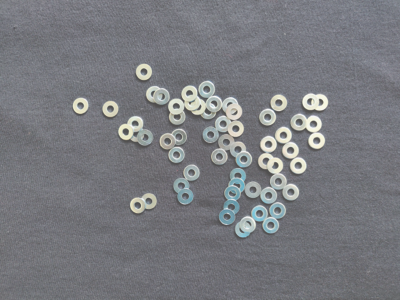circle: (135, 62, 153, 83), (127, 125, 146, 144), (271, 94, 290, 113), (258, 108, 278, 126), (177, 188, 195, 207), (172, 177, 191, 195), (145, 86, 163, 105), (301, 93, 319, 112), (290, 113, 308, 132), (304, 115, 323, 133), (307, 133, 326, 151), (141, 192, 158, 212), (183, 164, 201, 182), (127, 115, 145, 133), (198, 81, 216, 99), (235, 151, 253, 169), (289, 157, 307, 175), (269, 202, 287, 220), (137, 129, 154, 148), (154, 87, 171, 106), (211, 149, 230, 166), (311, 94, 328, 113), (275, 126, 294, 143), (269, 173, 288, 190), (130, 197, 147, 215), (222, 97, 239, 115), (218, 209, 236, 226), (283, 141, 300, 159), (257, 153, 275, 170), (267, 157, 284, 175), (282, 184, 300, 201), (261, 186, 278, 204), (245, 182, 263, 199), (222, 200, 241, 216), (235, 221, 251, 240), (169, 109, 186, 126), (184, 95, 201, 112), (203, 127, 220, 144), (230, 168, 247, 185), (260, 136, 277, 153), (72, 98, 90, 114), (103, 100, 119, 118), (160, 133, 176, 151), (181, 86, 199, 102), (190, 99, 206, 117), (200, 102, 216, 120), (216, 116, 232, 134), (230, 142, 248, 158), (225, 186, 243, 202), (167, 99, 186, 114), (118, 124, 134, 141), (172, 129, 188, 146), (169, 148, 185, 165), (206, 96, 223, 112), (229, 121, 245, 138), (218, 135, 235, 151), (228, 179, 245, 195), (252, 206, 269, 222), (240, 217, 256, 233), (263, 218, 279, 234), (226, 105, 243, 120)
